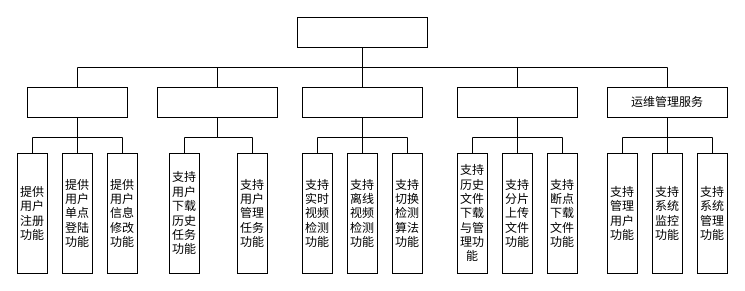
Some shapes in this 745 by 291 pixel diagram are drawn without their labels. The shapes that lost their labels are listed below. From the top down, each one's box as (x1, y1, x2, y2) in pixels, then its label:
(296, 16, 428, 48): 注册中心
(26, 86, 128, 118): 用户服务
(156, 86, 278, 118): 任务管理服务
(302, 86, 422, 118): 检测算法服务
(456, 86, 578, 118): 文件管理服务
